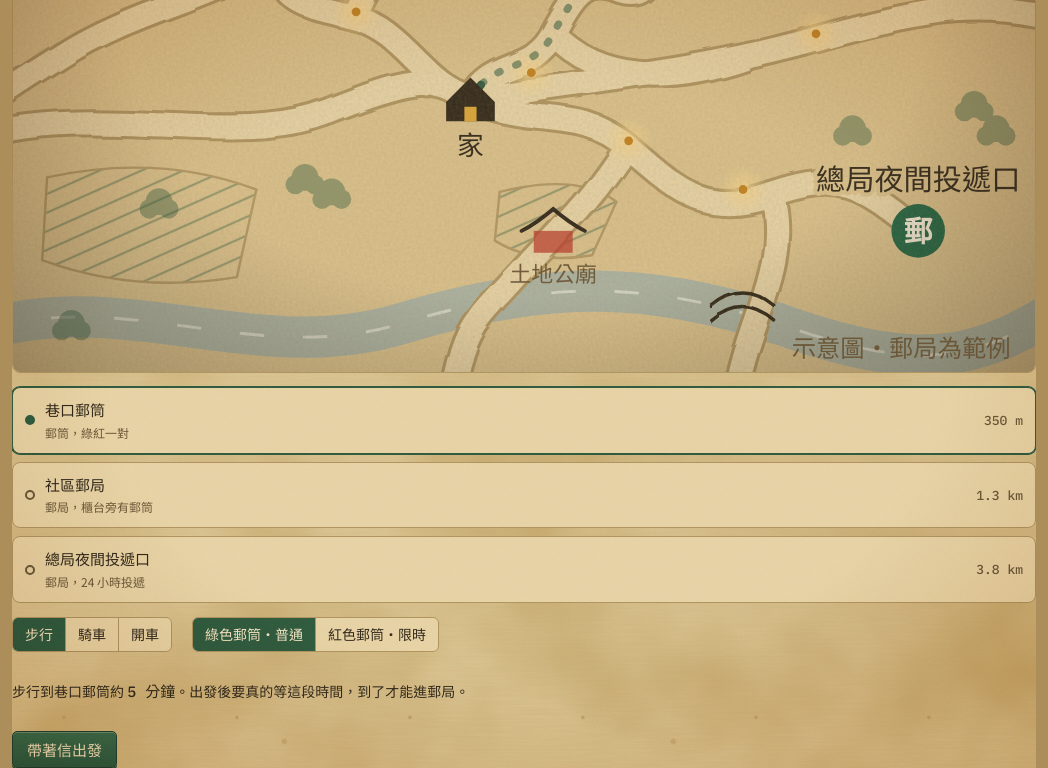
郵局 › 路程分鐘數用後端 /places 的；出發用 POST /trip，倒數照後端給的抵達時間
(page scrolled)
expect the text "步行到巷口郵筒約 5 分鐘。出發後要真的等這段時間，到了才能進郵局。" is shown: met, box [12, 681, 469, 701]
Click the button "帶著信出發".
click(64, 750)  # box [12, 731, 117, 767]
(page scrolled)
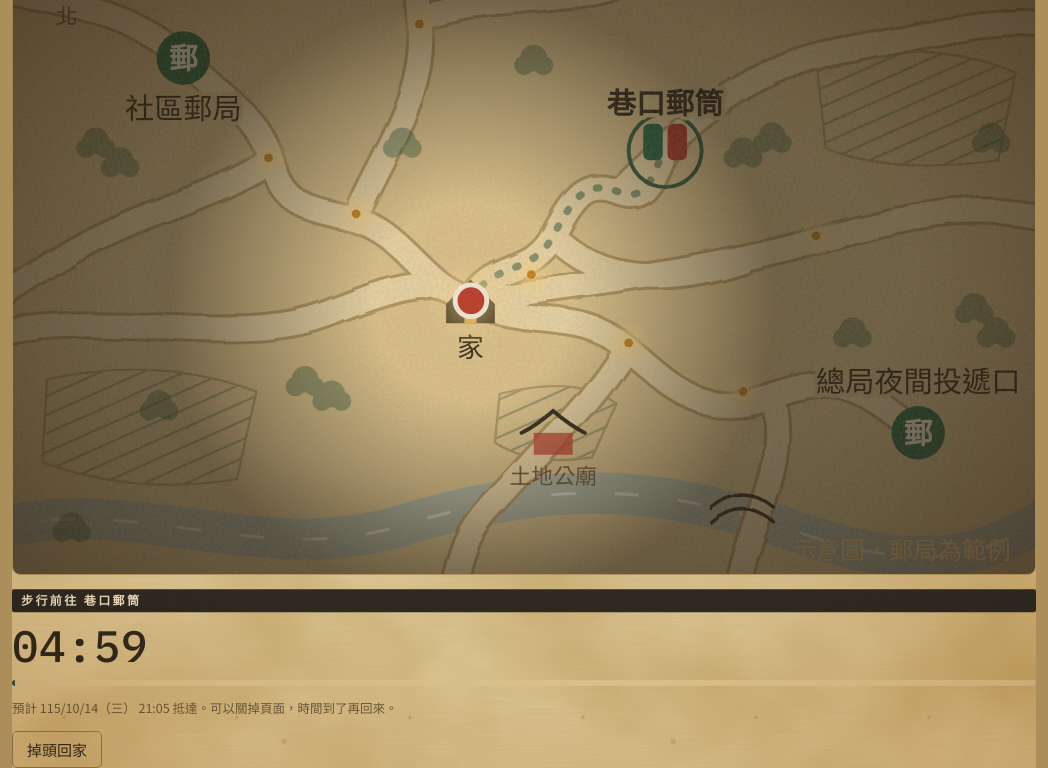
expect the text "04:59" is shown: met, box [12, 617, 148, 674]
expect the text "預計 115/10/14（三） 21:05 抵達。可以關掉頁面，時間到了再回來。" is shown: met, box [12, 698, 398, 717]
